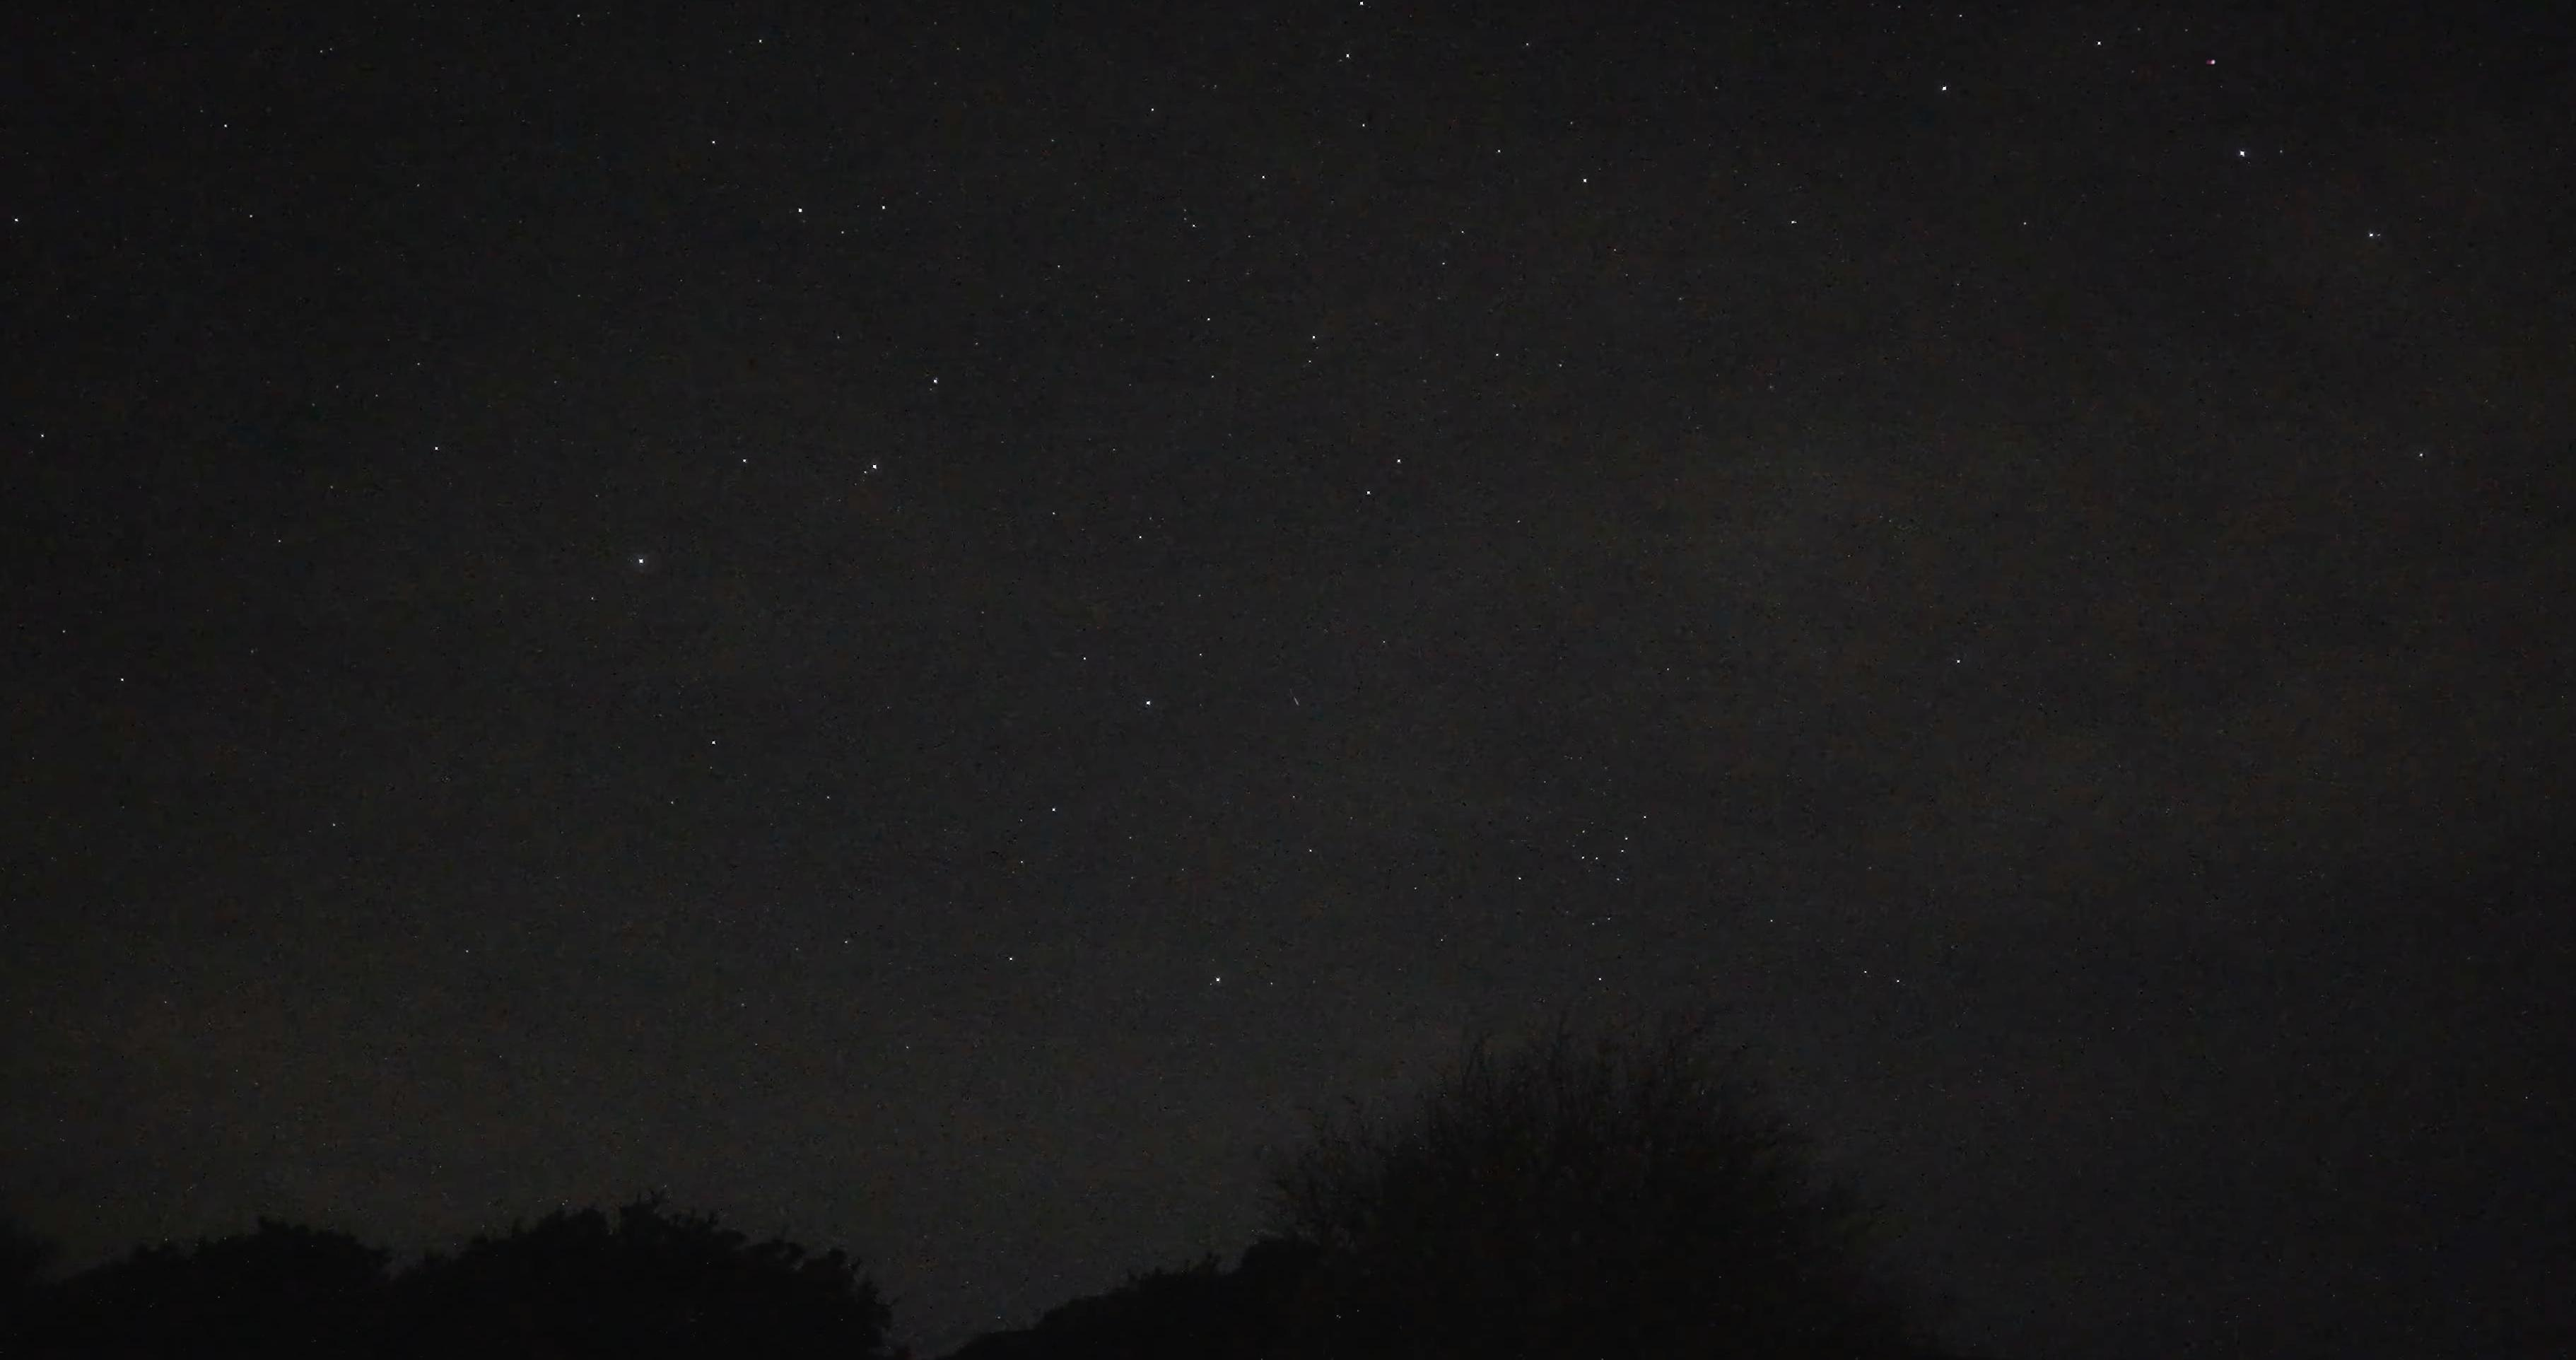Plane: (2198, 43, 2239, 66)
